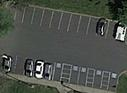parkingspot: (13, 4, 127, 44), (1, 53, 65, 83), (68, 64, 90, 88), (107, 71, 121, 93), (92, 68, 105, 90)
